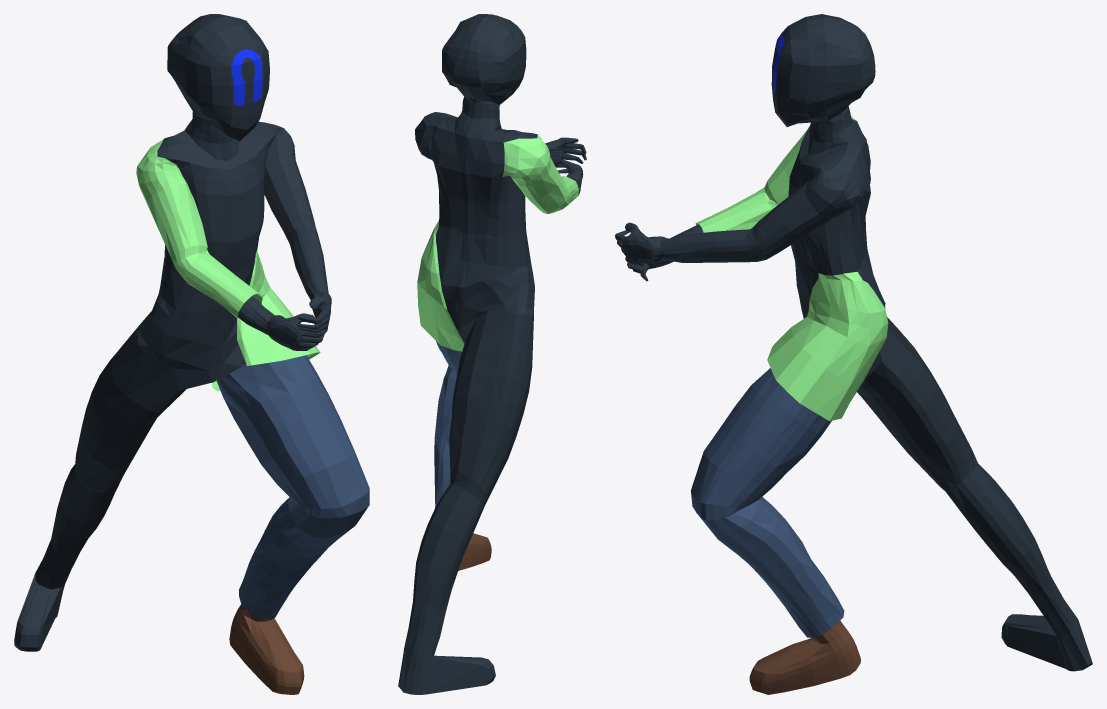
The model's file is Mar_WB_000025.obj.
3 renders of one model, left to right at view 1: azimuth 30°, elevation 25°; view 2: azimuth 150°, elevation 25°; view 3: azimuth 270°, elevation 25°, orthographic. The views are drawn at different scales.
Visible parts, largest first — view 1: Cube.000_Cube.001; view 2: Cube.000_Cube.001; view 3: Cube.000_Cube.001.
Boxes of the visible parts, bbox=[...] form: Cube.000_Cube.001: bbox=[14, 14, 369, 694]; Cube.000_Cube.001: bbox=[398, 14, 586, 694]; Cube.000_Cube.001: bbox=[615, 14, 1092, 694].
Size of the model in its own units: 1.11 by 3.64 by 2.35.
